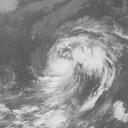cyclone: (33, 24, 118, 119)
